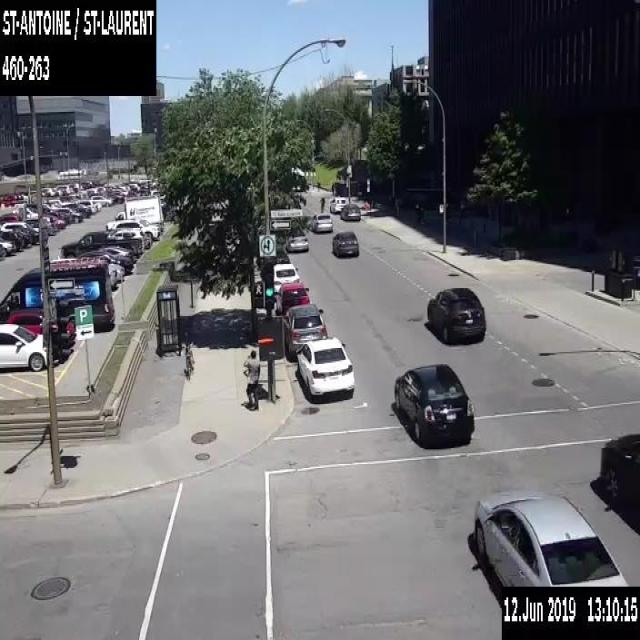construction: (362, 200, 369, 216)
cyclist: (319, 193, 325, 212)
pedestrian: (243, 348, 260, 409), (330, 180, 334, 194)
vehicle: (471, 484, 628, 584), (0, 256, 115, 327), (392, 362, 473, 444), (597, 431, 639, 521), (295, 336, 354, 398), (426, 286, 486, 346), (60, 230, 142, 261), (283, 303, 327, 360), (6, 308, 75, 343), (0, 321, 47, 371), (106, 192, 163, 230), (77, 250, 132, 273), (110, 218, 160, 240), (275, 282, 309, 314), (25, 205, 55, 233), (272, 262, 300, 291), (332, 230, 358, 256), (284, 230, 308, 251), (107, 262, 124, 289), (1, 220, 39, 232), (106, 228, 144, 240), (13, 226, 38, 244), (310, 212, 332, 231), (98, 245, 132, 257), (55, 206, 82, 221), (0, 230, 21, 249), (339, 202, 360, 220), (0, 192, 23, 208), (67, 202, 91, 217), (101, 188, 124, 202), (74, 198, 97, 212), (0, 236, 15, 256), (329, 195, 346, 212), (90, 194, 114, 206), (0, 212, 22, 225), (272, 247, 288, 262), (86, 185, 106, 197), (53, 183, 73, 194), (13, 183, 31, 194), (21, 228, 30, 245), (41, 187, 58, 196), (51, 186, 67, 194), (59, 194, 72, 202), (73, 182, 83, 192), (55, 216, 65, 226), (120, 184, 130, 194), (80, 180, 92, 188), (76, 189, 86, 198), (128, 182, 139, 190), (40, 188, 49, 195)
